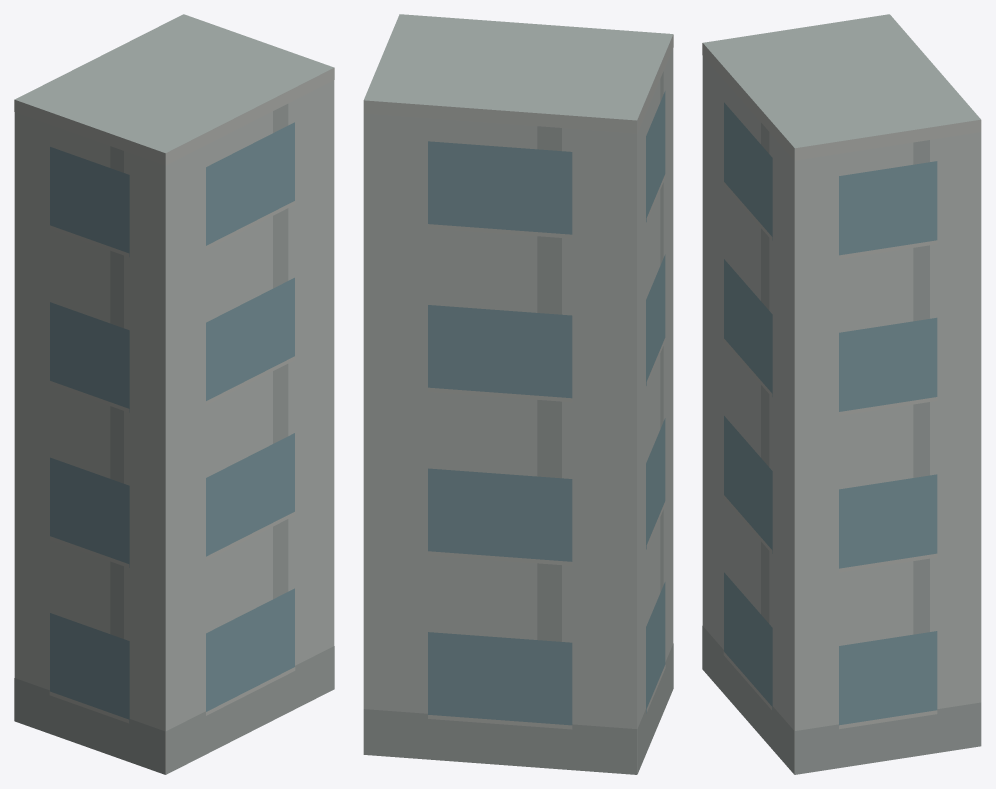
File: survey-upis-32512173.glb
3 views of the same model, side by side, from view 1: azimuth 30°, elevation 25°; view 2: azimuth 150°, elevation 25°; view 3: azimuth 270°, elevation 25° (orthographic). The views are drawn at different scales.
Parts seen in each view (by area): view 1: survey-upis-32512173.tmp; view 2: survey-upis-32512173.tmp; view 3: survey-upis-32512173.tmp.
Boxes of the visible parts, x1,y1,x2,y2 form: survey-upis-32512173.tmp: [14, 14, 334, 774]; survey-upis-32512173.tmp: [363, 14, 673, 774]; survey-upis-32512173.tmp: [702, 14, 981, 774].
Bounding box in the file's own units: 5.61 × 12.2 × 4.92.
